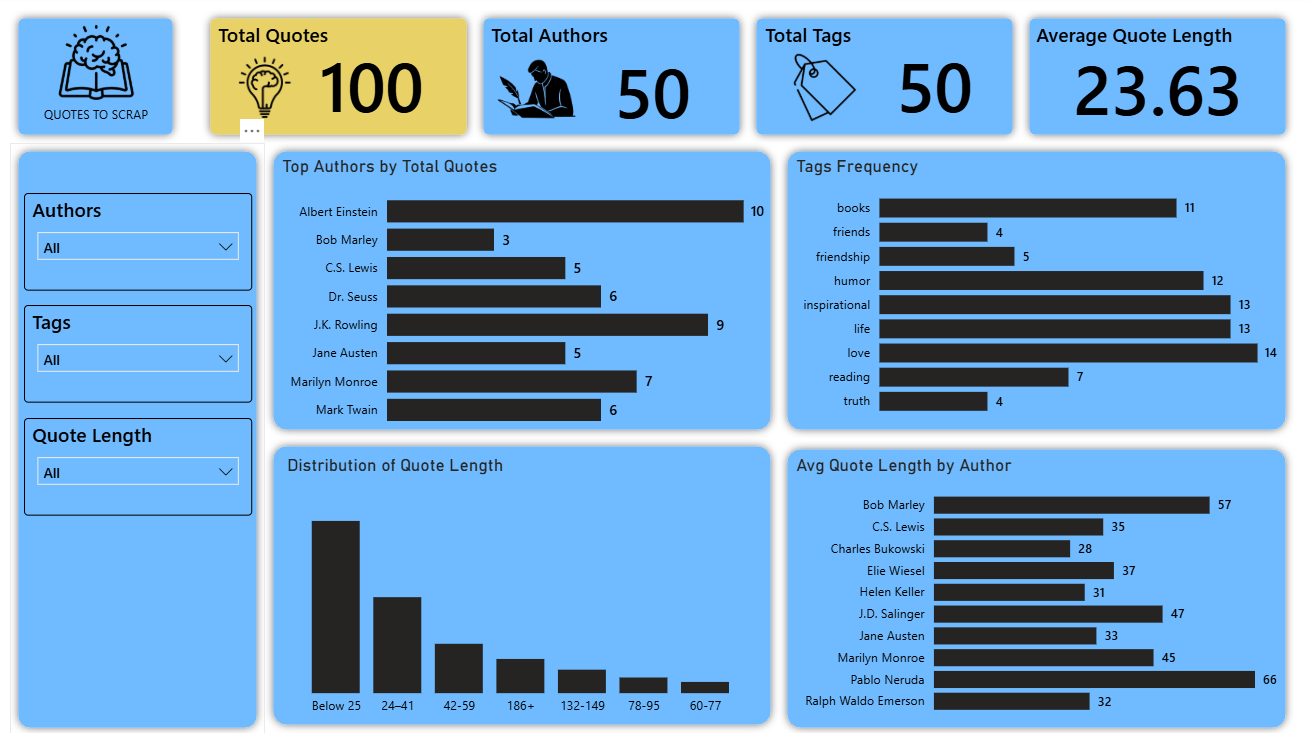

What the dashboard file says about the page in this screenshot:
{"tool":"powerbi","page":{"name":"Dashboard Overview","canvas":[1280,720],"ordinal":0},"visuals":[{"type":"shape","box":[997.9,13.6,265.5,129.4],"z":0},{"type":"shape","box":[732.4,13.6,265.5,129.4],"z":1000},{"type":"shape","box":[466.9,13.6,265.5,129.4],"z":2000},{"type":"shape","box":[201.3,13.6,265.5,129.4],"z":3000},{"type":"shape","box":[14.6,13.6,166.3,129.4],"z":4000},{"type":"shape","box":[762.6,143,500.9,286.9],"z":5000},{"type":"shape","box":[14.6,143,248,576.8],"z":6000},{"type":"shape","box":[262.6,143,499.9,286.9],"z":7000},{"type":"shape","box":[262.6,429.9,499.9,286.9],"z":8000},{"type":"shape","box":[762.6,432.8,500.9,286.9],"z":9000},{"type":"card","title":"Total Quotes","fields":{"Values":["Top 100 Scrapped Quotes Dataset.Total Quotes"]},"box":[296.7,37,139.1,92.4],"z":10000},{"type":"image","box":[179.9,42.8,165.3,92.4],"z":11000},{"type":"textbox","box":[212,19.5,124.5,44.7],"z":12000},{"type":"card","title":"Total Quotes","fields":{"Values":["Top 100 Scrapped Quotes Dataset.Total Authors"]},"box":[570,42.8,139.1,92.4],"z":13000},{"type":"textbox","box":[477.6,19.5,124.5,44.7],"z":14000},{"type":"image","box":[472.7,52.5,108,75.9],"z":15000},{"type":"image","box":[37.9,23.3,119.6,81.7],"z":16000},{"type":"textbox","box":[35,100.2,126.4,42.8],"z":17000},{"type":"card","title":"Total Quotes","fields":{"Values":["Top 100 Scrapped Quotes Dataset.Total Tags"]},"box":[844.3,37,139.1,92.4],"z":18000},{"type":"image","box":[762.6,54.5,88.5,69.1],"z":19000},{"type":"textbox","box":[744.1,19.5,124.5,44.7],"z":20000},{"type":"card","title":"Total Quotes","fields":{"Values":["Top 100 Scrapped Quotes Dataset.Avg Quote Length"]},"box":[1035.9,42.8,190.6,86.6],"z":21000},{"type":"textbox","box":[1007.7,19.5,219.8,44.7],"z":22000},{"type":"barChart","title":"Top Authors by Total Quotes","fields":{"Category":["Top 100 Scrapped Quotes Dataset.Author"],"Y":["Top 100 Scrapped Quotes Dataset.Total Quotes"]},"box":[274.3,155.6,478.5,274.3],"z":23000},{"type":"barChart","title":"Tags Frequency","fields":{"Category":["Tags Table.Tags"],"Y":["CountNonNull(Tags Table.Tags)"]},"box":[774.2,155.6,477.6,262.6],"z":24000},{"type":"barChart","fields":{"Category":["Summary Table.Author"],"Y":["Top 100 Scrapped Quotes Dataset.Avg Quote Length"]},"box":[774.2,446.4,477.6,261.6],"z":25000},{"type":"clusteredColumnChart","title":"Distribution of Quote Length ","fields":{"Category":["Top 100 Scrapped Quotes Dataset.Quote Length Group"],"Y":["Sum(Top 100 Scrapped Quotes Dataset.Quote_Length)"]},"box":[279.1,446.4,464.9,261.6],"z":26000},{"type":"slicer","title":"Authors","fields":{"Values":["Top 100 Scrapped Quotes Dataset.Author"]},"box":[28.2,191.6,221.8,95.3],"z":27000},{"type":"slicer","title":"Tags","fields":{"Values":["Tags Table.Tags"]},"box":[28.2,300.5,221.8,95.3],"z":28000},{"type":"slicer","title":"Quote Length","fields":{"Values":["Top 100 Scrapped Quotes Dataset.Quote Length Group"]},"box":[28.2,410.5,221.8,95.3],"z":29000}]}

Visuals, with their boxes in screenshot pixels (x1, y1, x2, y2), scaled from the page's 1280x720 canvas onto the 1310x733 screenshot:
shape: [1021, 14, 1293, 146]
shape: [750, 14, 1021, 146]
shape: [478, 14, 750, 146]
shape: [206, 14, 478, 146]
shape: [15, 14, 185, 146]
shape: [780, 146, 1293, 438]
shape: [15, 146, 269, 732]
shape: [269, 146, 780, 438]
shape: [269, 438, 780, 730]
shape: [780, 441, 1293, 732]
"Total Quotes" card: [304, 38, 446, 132]
image: [184, 44, 353, 138]
textbox: [217, 20, 344, 65]
"Total Quotes" card: [583, 44, 726, 138]
textbox: [489, 20, 616, 65]
image: [484, 53, 594, 131]
image: [39, 24, 161, 107]
textbox: [36, 102, 165, 146]
"Total Quotes" card: [864, 38, 1006, 132]
image: [780, 55, 871, 126]
textbox: [762, 20, 889, 65]
"Total Quotes" card: [1060, 44, 1255, 132]
textbox: [1031, 20, 1256, 65]
"Top Authors by Total Quotes" barChart: [281, 158, 770, 438]
"Tags Frequency" barChart: [792, 158, 1281, 426]
barChart - Summary Table.Author x Top 100 Scrapped Quotes Dataset.Avg Quote Length: [792, 454, 1281, 721]
"Distribution of Quote Length " clusteredColumnChart: [286, 454, 761, 721]
"Authors" slicer: [29, 195, 256, 292]
"Tags" slicer: [29, 306, 256, 403]
"Quote Length" slicer: [29, 418, 256, 515]
